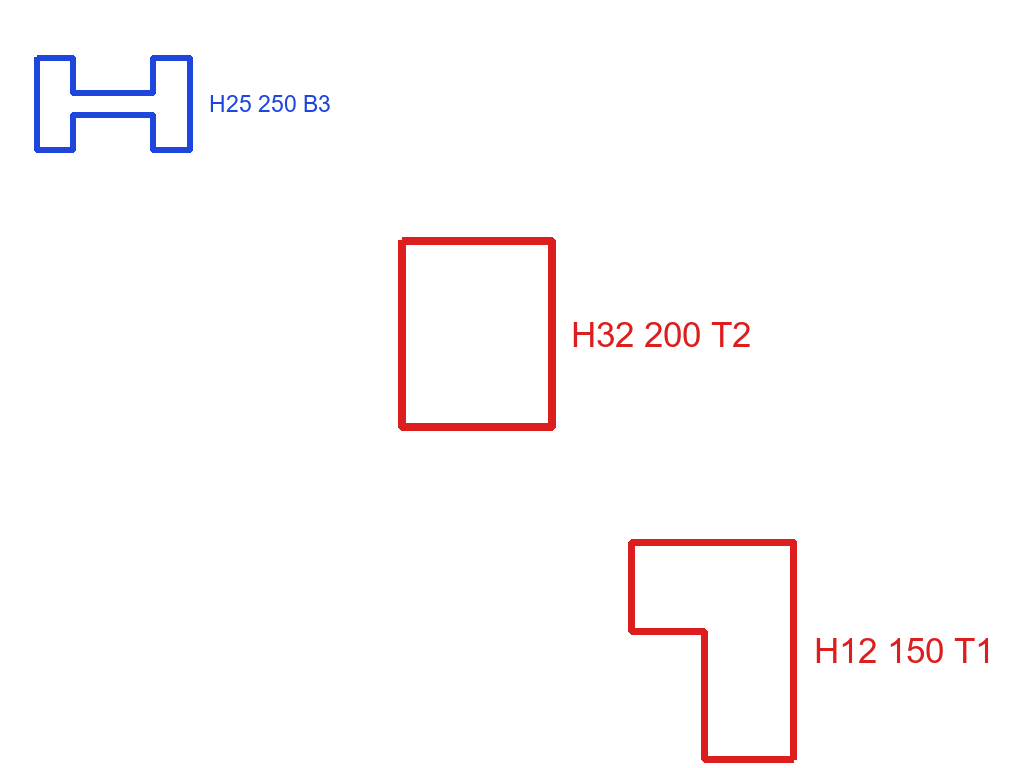shape: (626, 537, 799, 765), (396, 235, 557, 433), (32, 52, 194, 156)
text: (812, 636, 996, 665), (569, 320, 753, 349), (207, 93, 333, 114)
